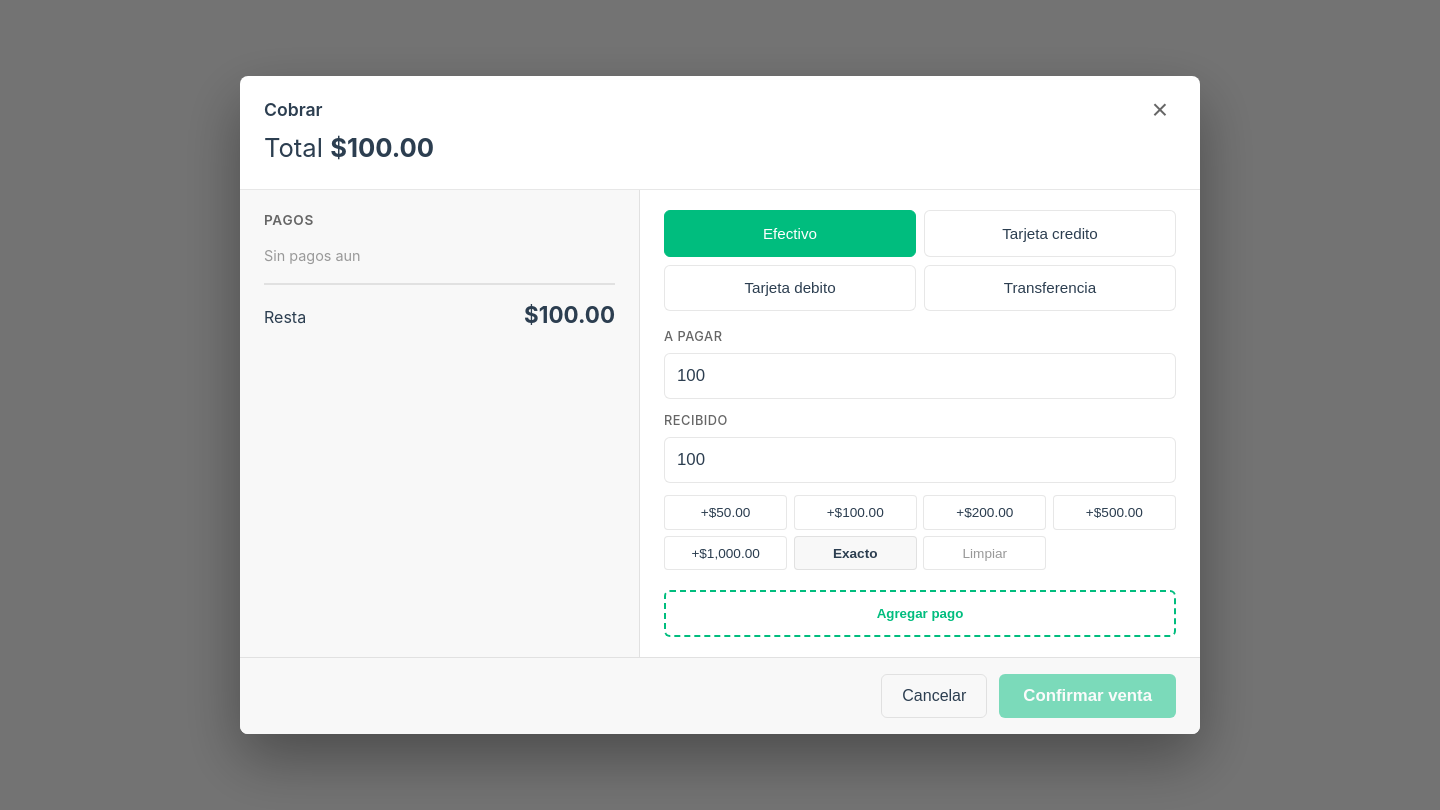
Test: PaymentModal › addDenomination suma al campo Recibido
The image size is (1440, 810).
Click the button "+$200.00": (985, 512) 923,495 -> 1046,530
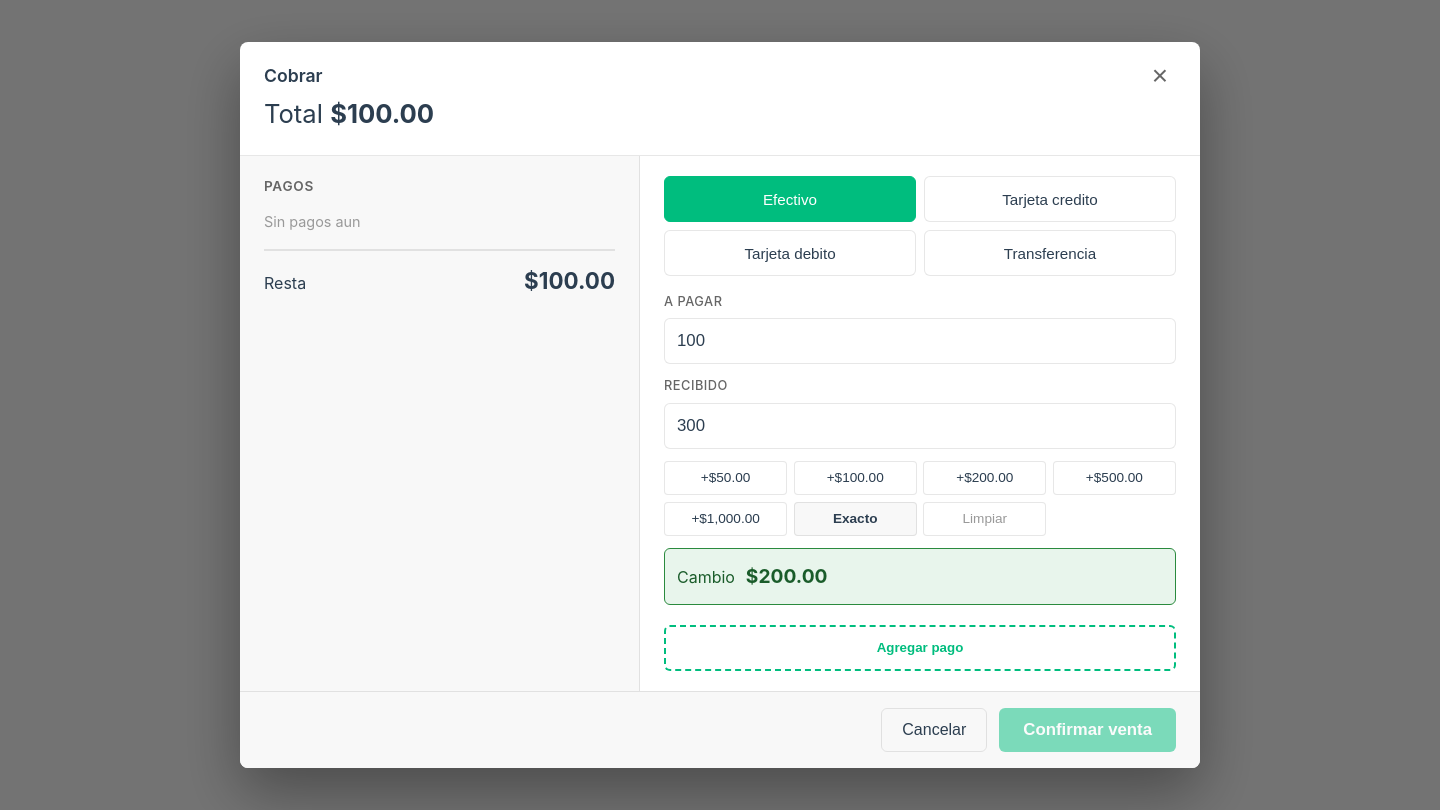
Result: the field labelled "Recibido" holds "300" at 664,402 -> 1176,448
